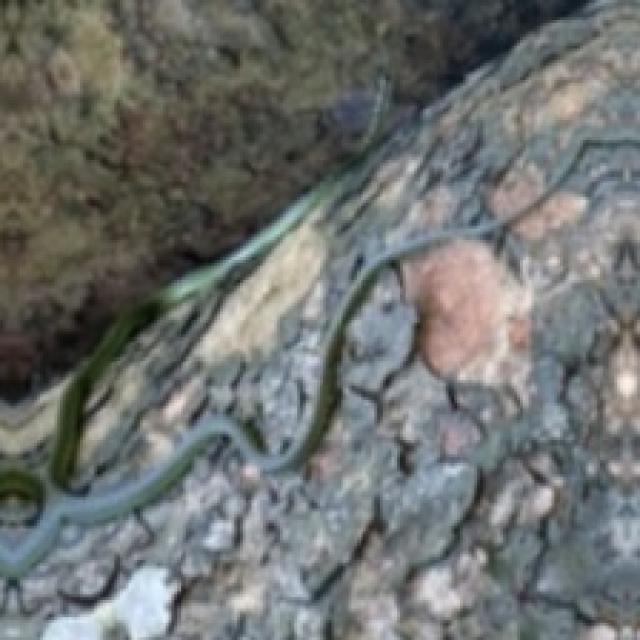paradise tree snake: (0, 134, 637, 637)
